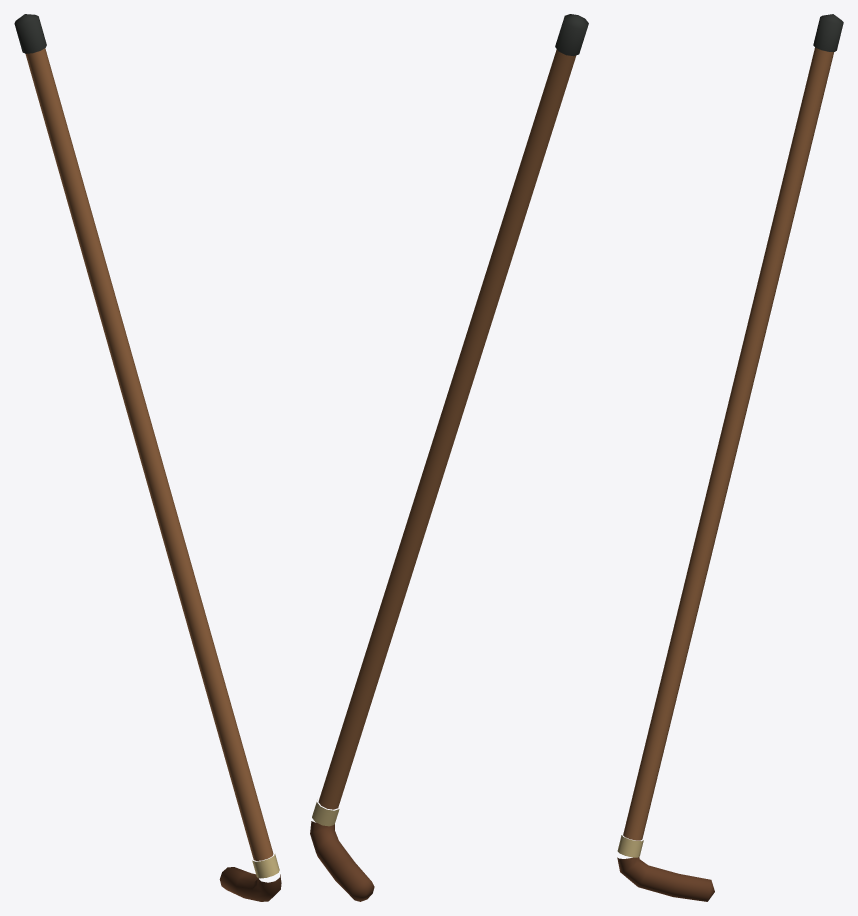
Rendered from old-cane-base-male.glb.
3 renders of one model, left to right at view 1: azimuth 30°, elevation 25°; view 2: azimuth 210°, elevation 25°; view 3: azimuth 270°, elevation 25°, orthographic. The views are drawn at different scales.
Visible parts, largest first — view 1: Acc_Male_Hand_Cane; view 2: Acc_Male_Hand_Cane; view 3: Acc_Male_Hand_Cane.
Boxes of the visible parts, bbox=[...] form: Acc_Male_Hand_Cane: bbox=[14, 14, 281, 901]; Acc_Male_Hand_Cane: bbox=[310, 14, 588, 901]; Acc_Male_Hand_Cane: bbox=[617, 14, 843, 901].
Size of the model in its own units: 0.1766 by 0.9038 by 0.2258.
